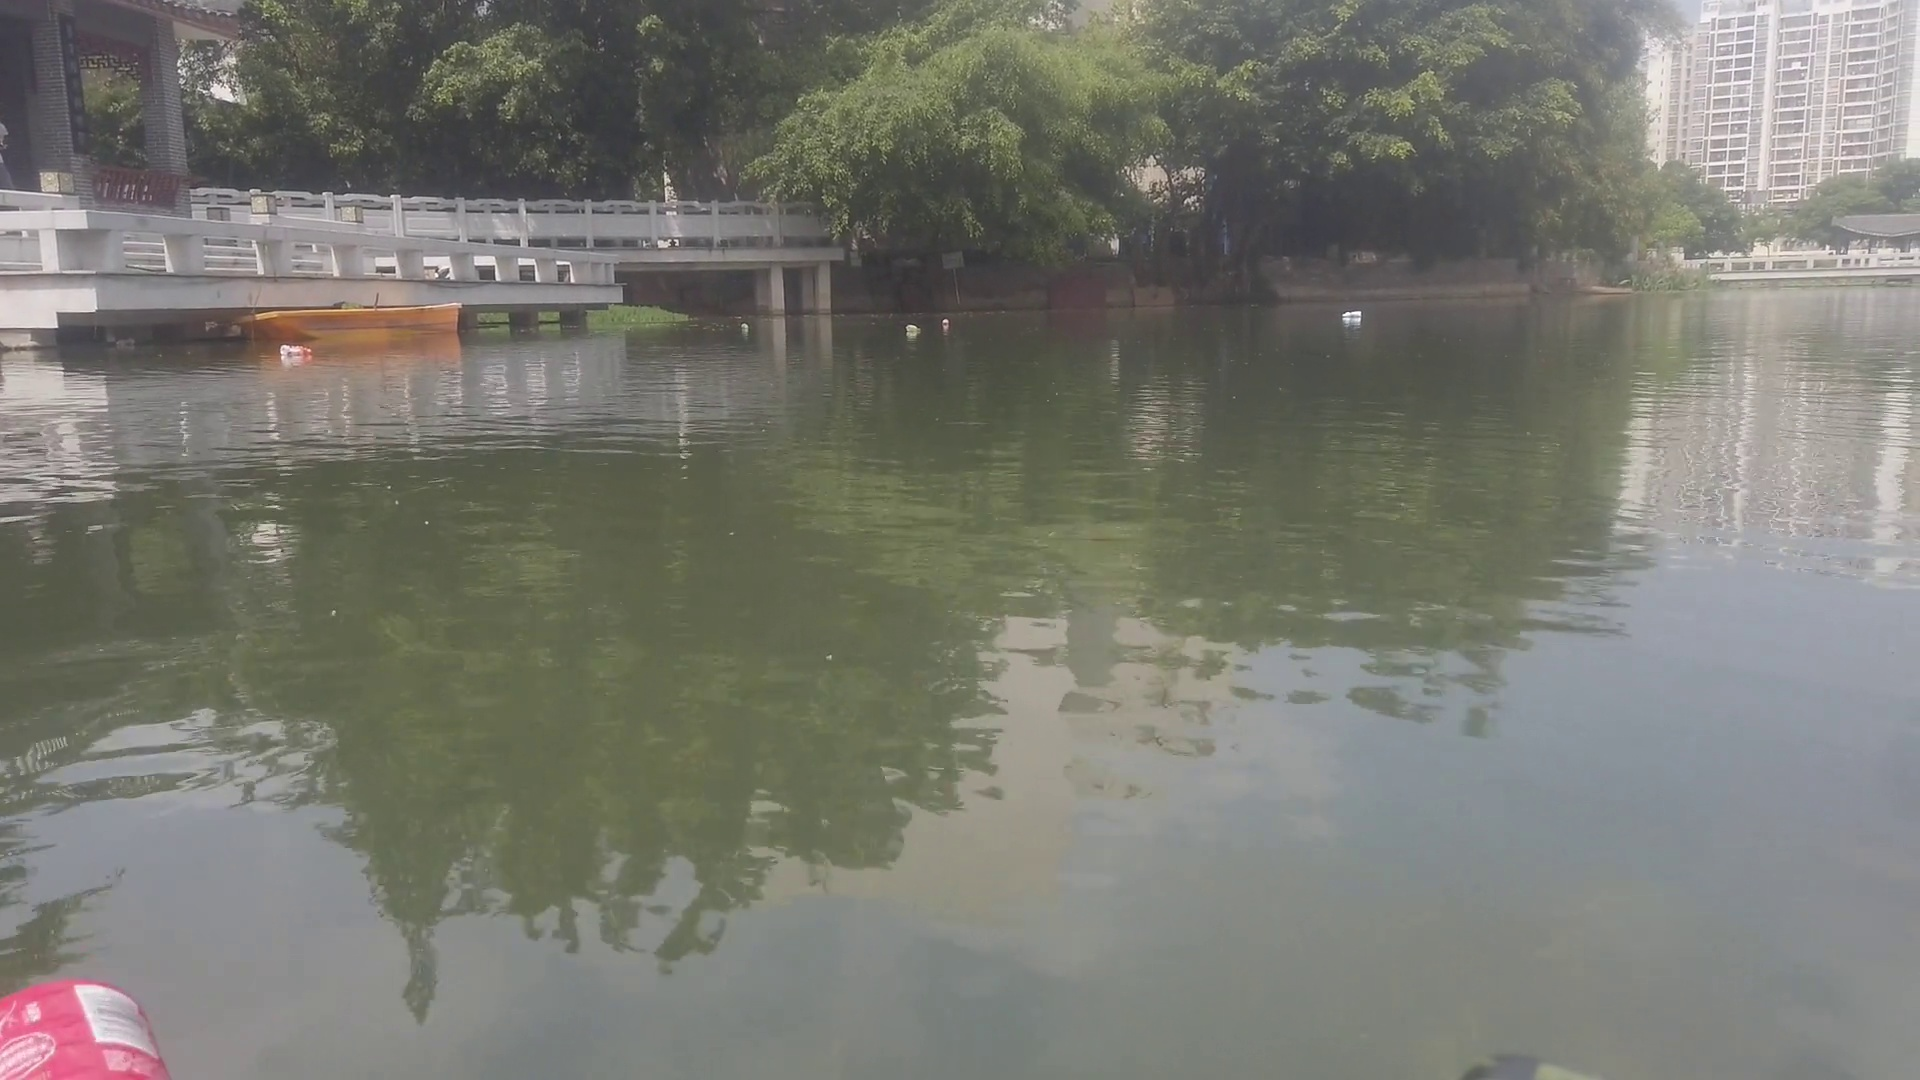bottle: (1, 971, 187, 1080), (277, 343, 315, 355), (901, 320, 923, 338), (1340, 307, 1362, 320), (938, 313, 949, 330), (738, 316, 750, 328)
